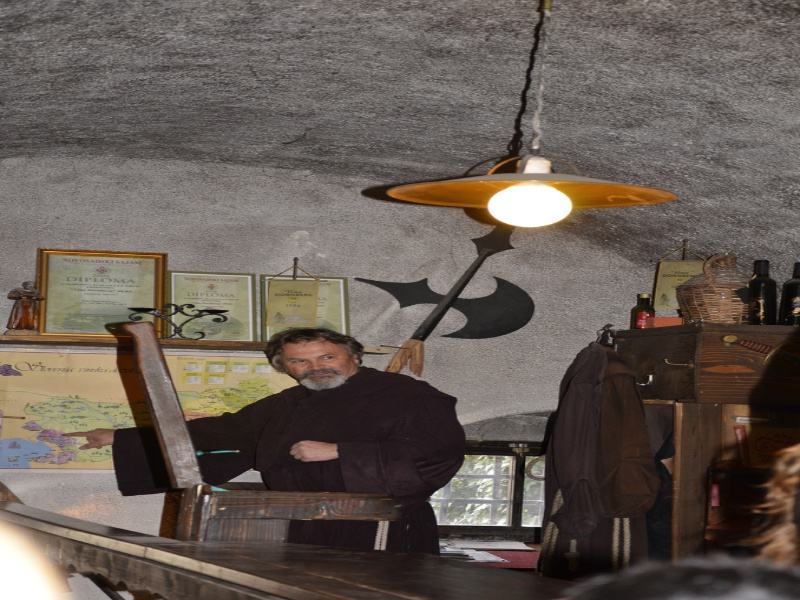axe: (348, 263, 549, 347)
